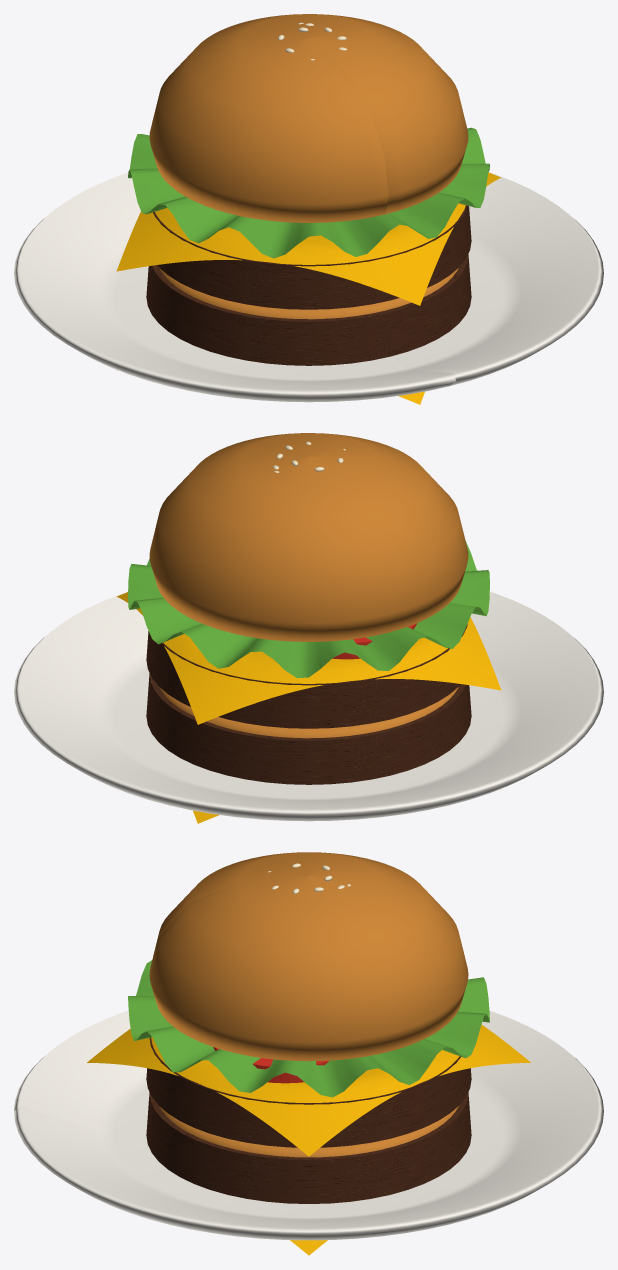
3 renders of one model, top to bottom at view 1: azimuth 30°, elevation 25°; view 2: azimuth 150°, elevation 25°; view 3: azimuth 270°, elevation 25°, orthographic.
Parts seen in each view (by area): view 1: bun_top, plate, patty_extra, lettuce, cheese, patty, bun_bottom; view 2: bun_top, plate, patty_extra, lettuce, cheese, patty, bun_bottom; view 3: bun_top, plate, patty_extra, cheese, lettuce, patty, bun_bottom.
Part boxes in pixels (x1,y1,x2,y2): bun_top: [149, 14, 468, 222]; plate: [14, 172, 603, 402]; patty_extra: [146, 254, 471, 365]; lettuce: [128, 127, 489, 258]; cheese: [116, 172, 500, 305]; patty: [153, 205, 471, 309]; bun_bottom: [159, 268, 458, 319]; bun_top: [149, 433, 468, 641]; plate: [14, 591, 603, 821]; patty_extra: [146, 673, 471, 784]; lettuce: [128, 541, 489, 678]; cheese: [117, 592, 501, 724]; patty: [146, 624, 467, 728]; bun_bottom: [159, 687, 458, 738]; bun_top: [149, 852, 468, 1061]; plate: [14, 1010, 603, 1240]; patty_extra: [146, 1092, 471, 1203]; cheese: [87, 1024, 530, 1156]; lettuce: [128, 960, 489, 1097]; patty: [146, 1037, 471, 1147]; bun_bottom: [159, 1106, 458, 1157].
Size of the model in its own units: 0.2 by 0.1076 by 0.2.
Materials: 9 (1 with a texture image).
